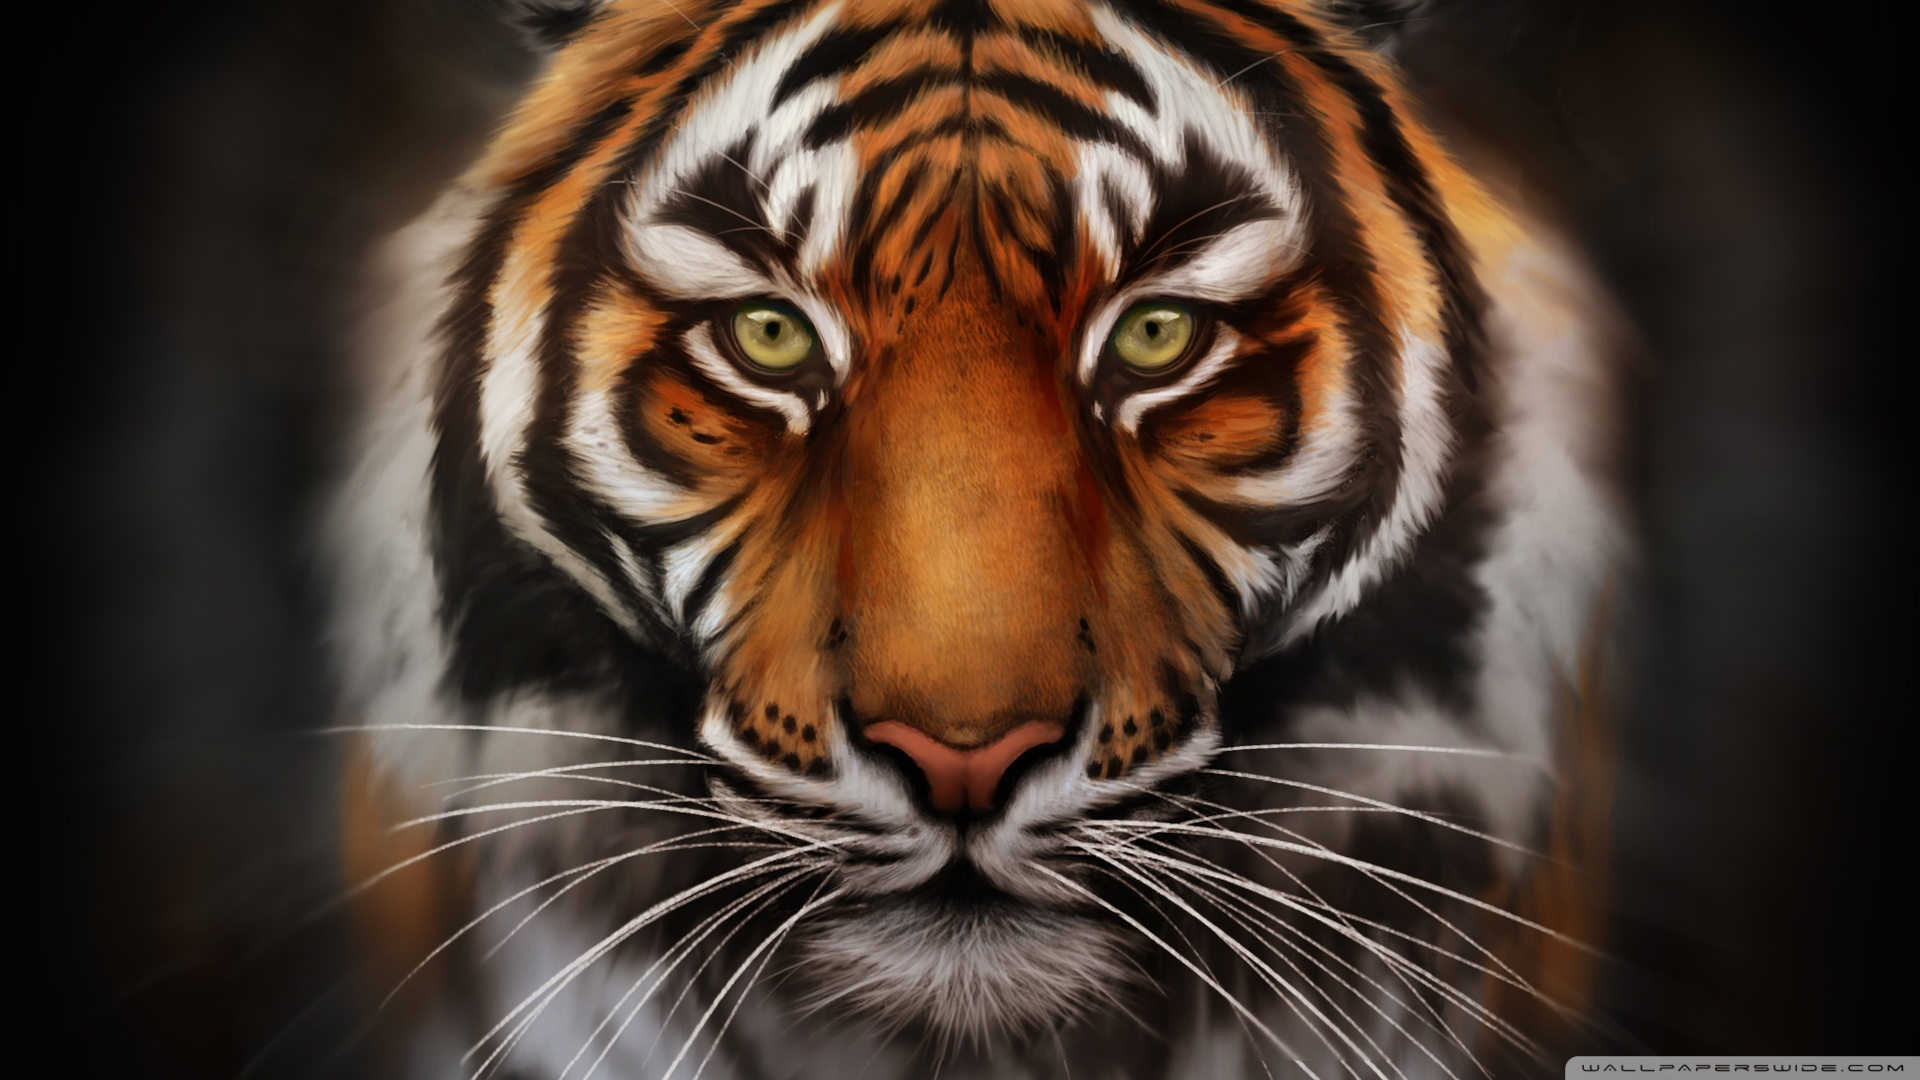tiger: (338, 24, 1691, 1036)
